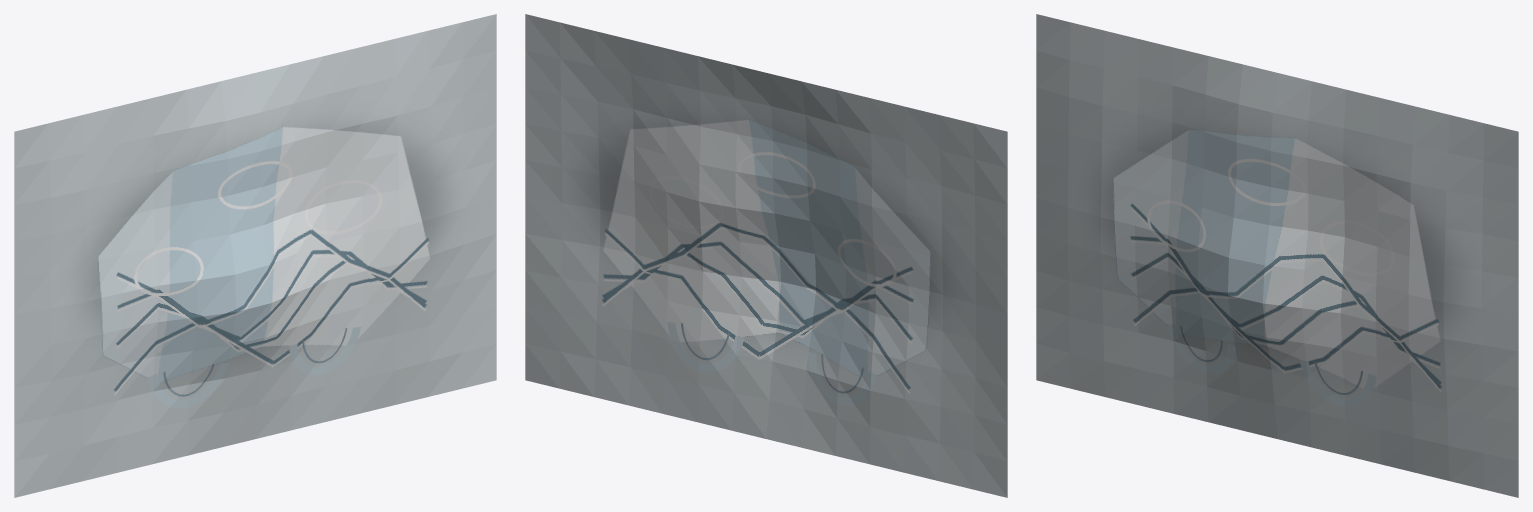
Rendered from plastic_bag.obj.
3 renders of one model, left to right at view 1: azimuth 30°, elevation 25°; view 2: azimuth 150°, elevation 25°; view 3: azimuth 330°, elevation 25°, orthographic.
Bounding box in the file's own units: 0.62 × 0.45 × 0.0339.
Materials: 1 (1 with a texture image).
